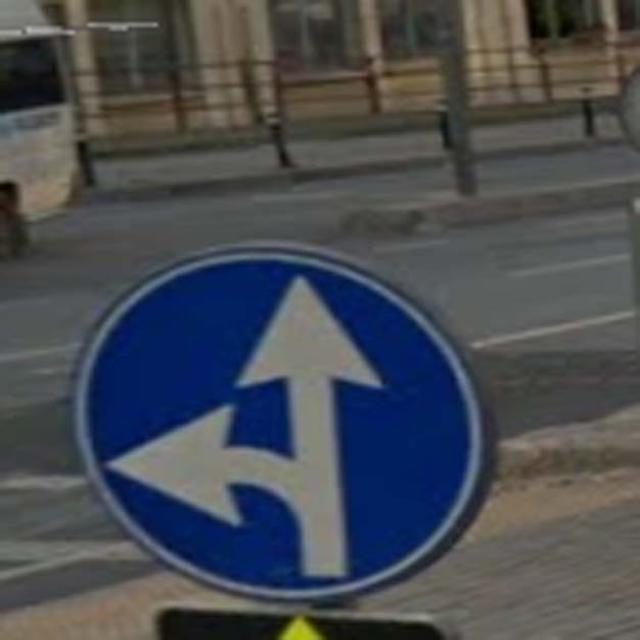ilerisol: (64, 227, 512, 605)
